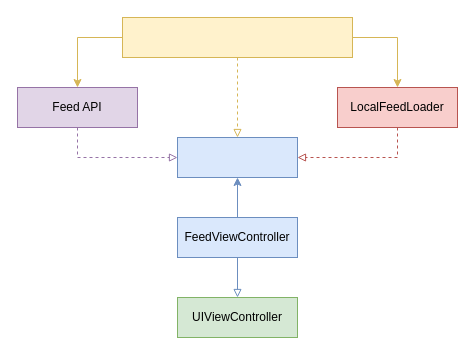
This 475x355 diagram has some shape labels left out. The centre of each missing label's shape, as x and y in pixels:
<Feed Feature>: point (237, 157)
RemoteWithLocalFallbackFeedLoader: point (237, 37)
